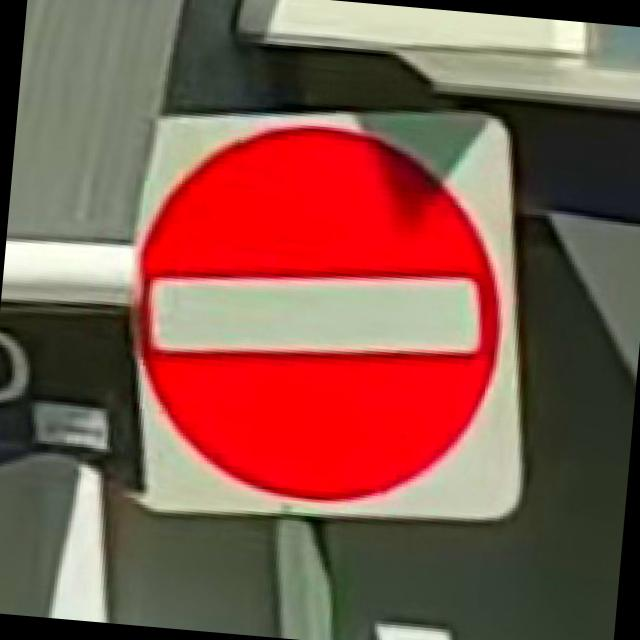noentry_sign: (98, 75, 558, 543)
